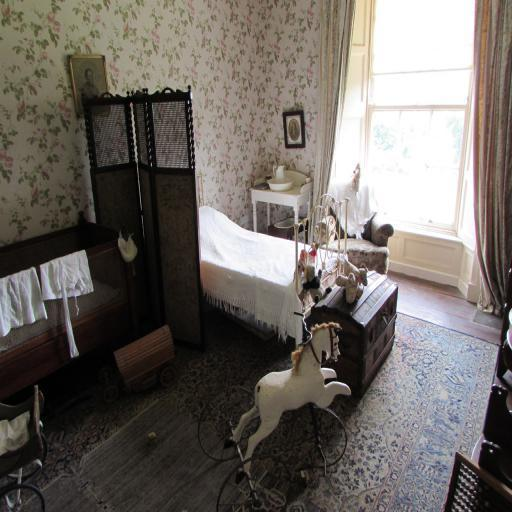horse: (222, 322, 354, 487)
